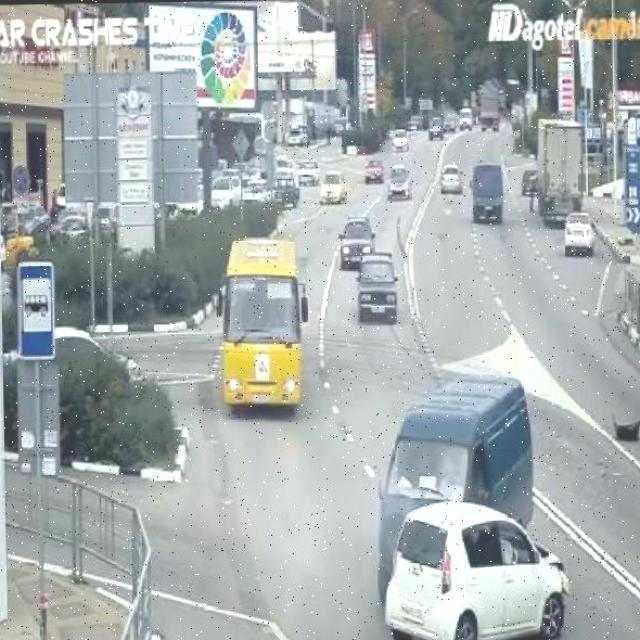accident: (368, 372, 572, 640)
